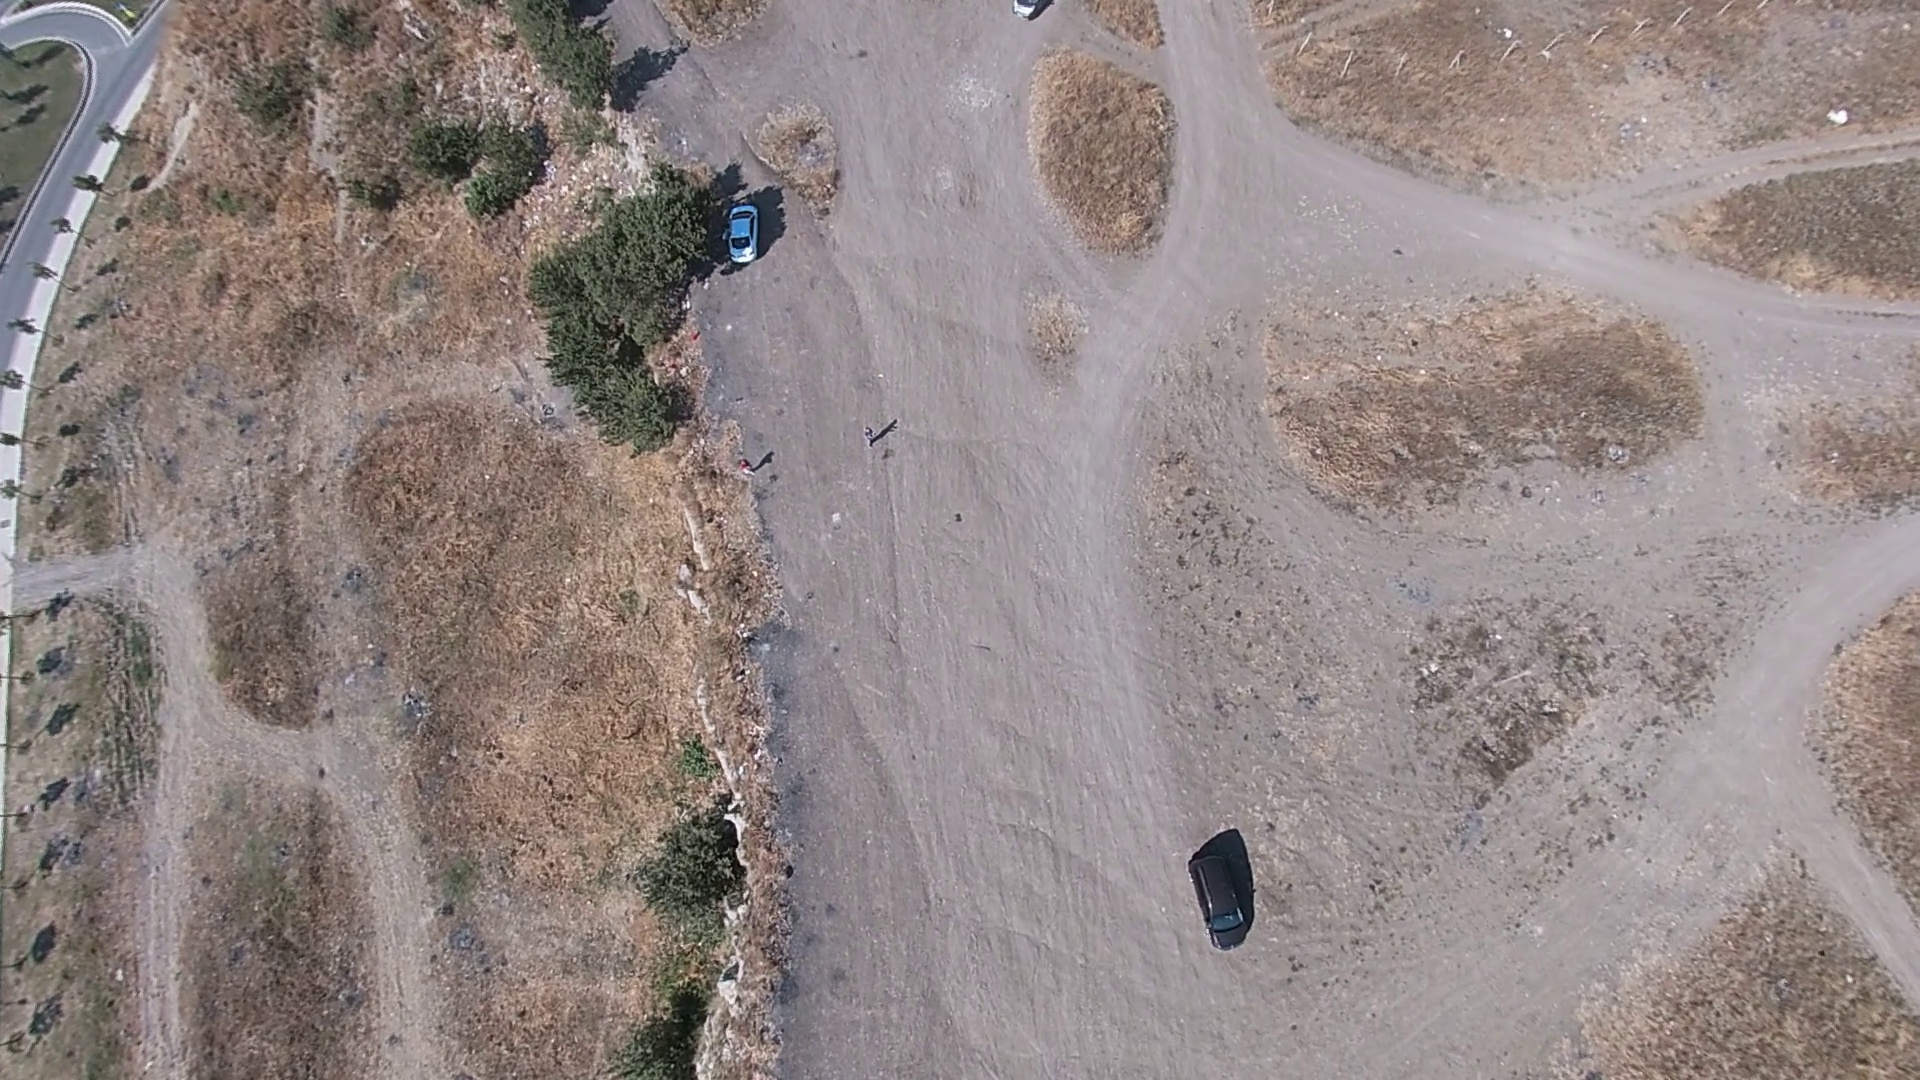araba: (1184, 836, 1257, 946), (724, 198, 758, 260)
insan: (732, 453, 769, 485), (859, 417, 884, 448)
